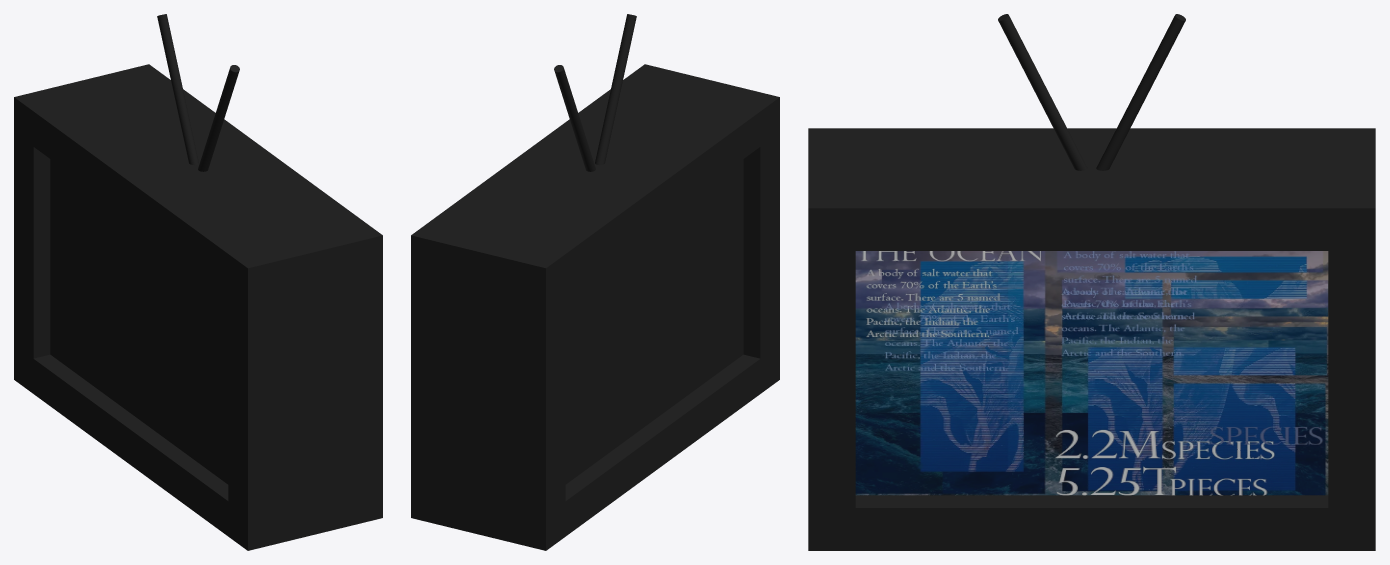
The model's file is immersion_eoe_TV_animation.glb.
The picture shows the model from 3 angles, left to right: view 1: azimuth 30°, elevation 25°; view 2: azimuth 150°, elevation 25°; view 3: azimuth 270°, elevation 25°; orthographic projection. The views are drawn at different scales.
Visible parts, largest first — view 1: Cube; view 2: Cube; view 3: Cube.
Part boxes in pixels (x1,y1,x2,y2): Cube: (14, 14, 382, 550); Cube: (411, 14, 779, 550); Cube: (808, 14, 1375, 550).
Size of the model in its own units: 8 by 23.15 by 24.
2 materials, 1 textured.
